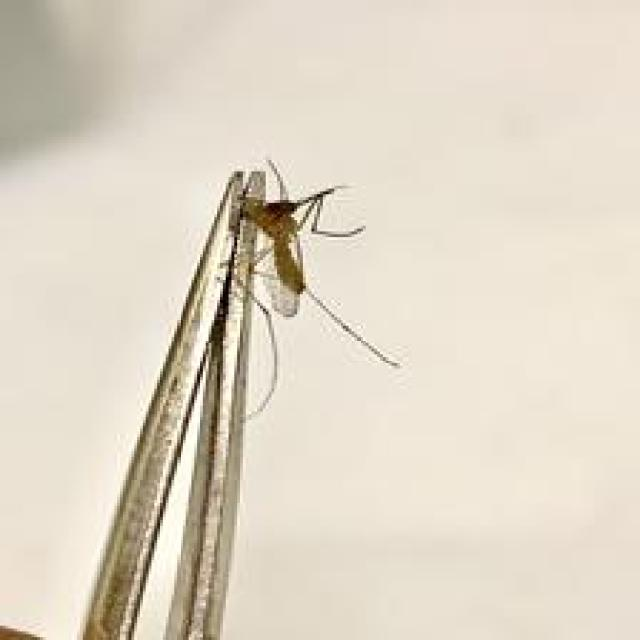Culex: (0, 154, 403, 640)
